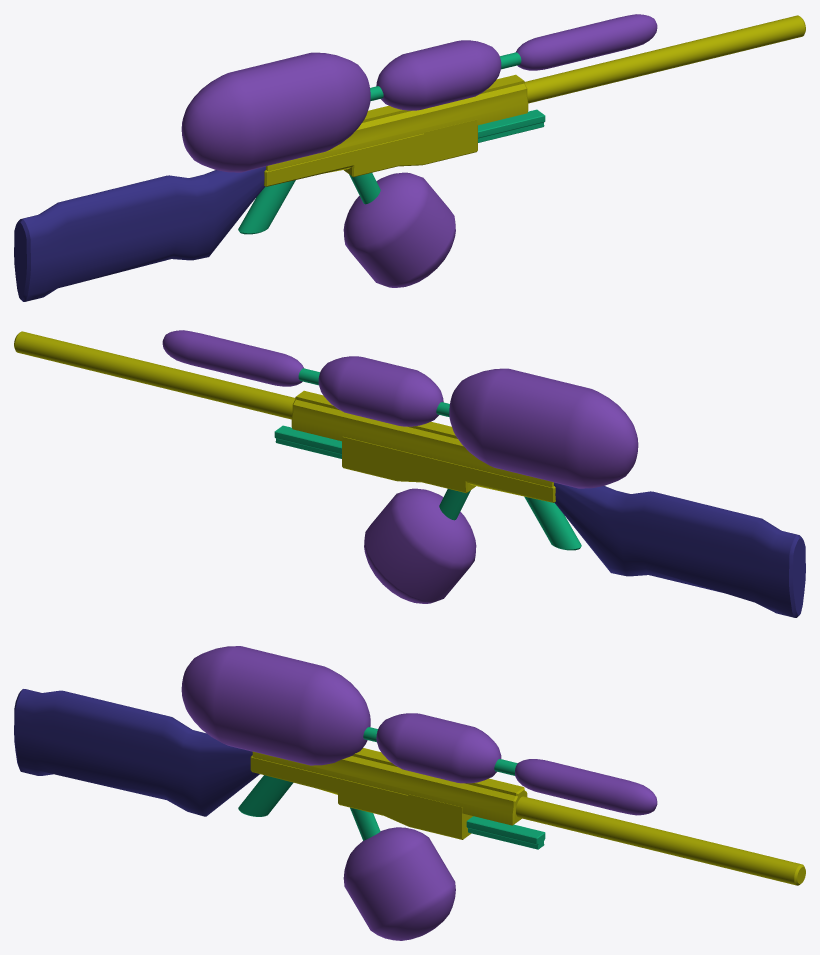
The model's file is fuciola real.fbx.
3 views of the same model, one above another, from view 1: azimuth 30°, elevation 25°; view 2: azimuth 150°, elevation 25°; view 3: azimuth 330°, elevation 25° (orthographic).
Parts seen in each view (by area): view 1: calcio2, pSphere1, pSphere4, pSphere2, pCylinder5, pCube1, pCube2, pSphere3, pCylinder3, pCube3, pCylinder4; view 2: calcio2, pSphere1, pSphere4, pSphere2, pCylinder5, pCube1, pCube2, pSphere3, pCylinder3, pCube3, pCylinder4; view 3: calcio2, pSphere1, pSphere4, pCylinder5, pSphere2, pCube1, pCube2, pSphere3, pCube3, pCylinder3, pCylinder4.
Boxes of the visible parts, x1,y1,x2,y2 form: calcio2: [14, 166, 265, 301]; pSphere1: [181, 52, 370, 172]; pSphere4: [343, 172, 455, 287]; pSphere2: [376, 40, 501, 110]; pCylinder5: [524, 15, 805, 103]; pCube1: [266, 74, 528, 171]; pCube2: [264, 119, 477, 186]; pSphere3: [516, 14, 657, 70]; pCylinder3: [238, 180, 295, 234]; pCube3: [478, 109, 545, 142]; pCylinder4: [349, 173, 380, 204]; calcio2: [554, 482, 805, 617]; pSphere1: [449, 368, 638, 488]; pSphere4: [364, 488, 476, 603]; pSphere2: [318, 356, 443, 426]; pCylinder5: [14, 331, 295, 419]; pCube1: [291, 390, 553, 487]; pCube2: [342, 436, 555, 502]; pSphere3: [162, 330, 303, 386]; pCylinder3: [524, 496, 581, 550]; pCube3: [274, 425, 341, 458]; pCylinder4: [439, 489, 470, 520]; calcio2: [14, 689, 259, 816]; pSphere1: [181, 646, 370, 765]; pSphere4: [343, 827, 455, 940]; pCylinder5: [516, 796, 805, 885]; pSphere2: [376, 713, 501, 783]; pCube1: [252, 748, 527, 825]; pCube2: [250, 755, 472, 839]; pSphere3: [515, 759, 657, 815]; pCube3: [466, 816, 545, 849]; pCylinder3: [238, 775, 293, 816]; pCylinder4: [350, 807, 380, 840].
Bounding box in the file's own units: 11.78 × 3.59 × 1.12.
